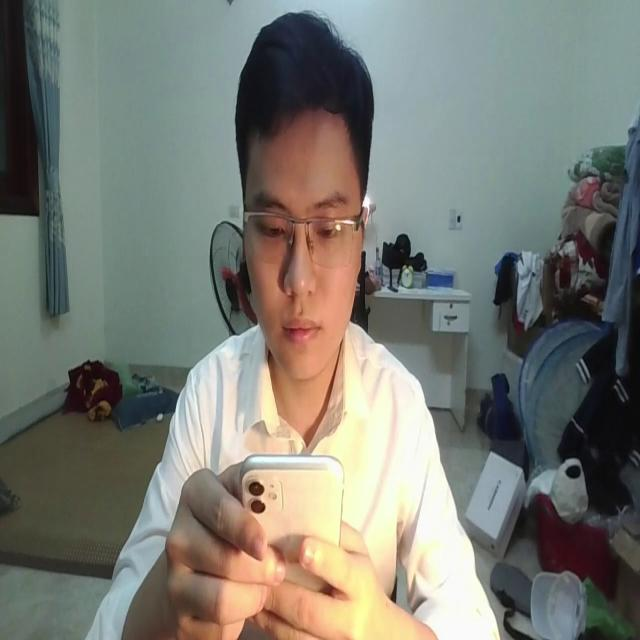phone: (241, 438, 344, 592)
student: (83, 12, 498, 640)
